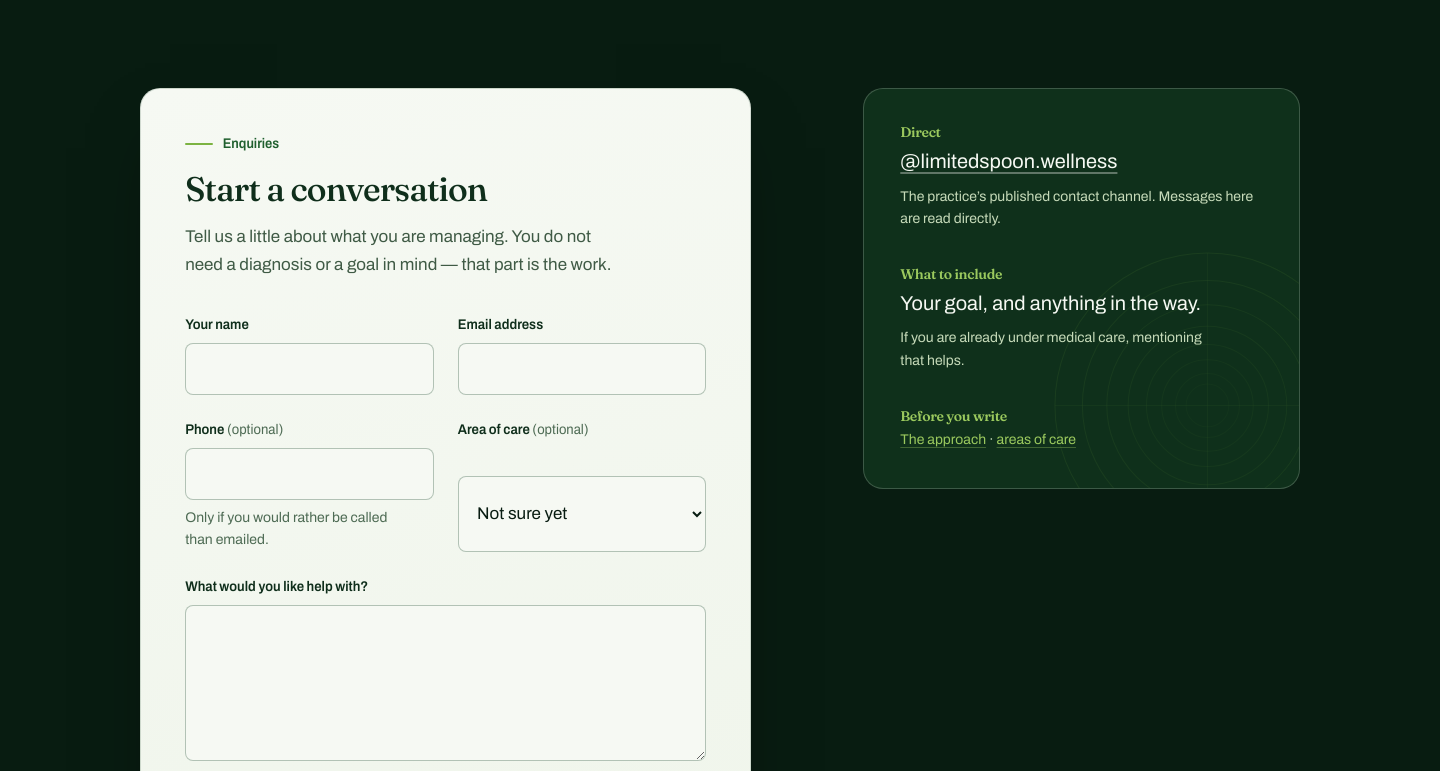
Test: Contact enquiry form › hands the composed enquiry over instead of failing silently
Type "Priya Raman" into the field labelled "Your name". click: {"x": 310, "y": 369}
box: [185,343,434,395]
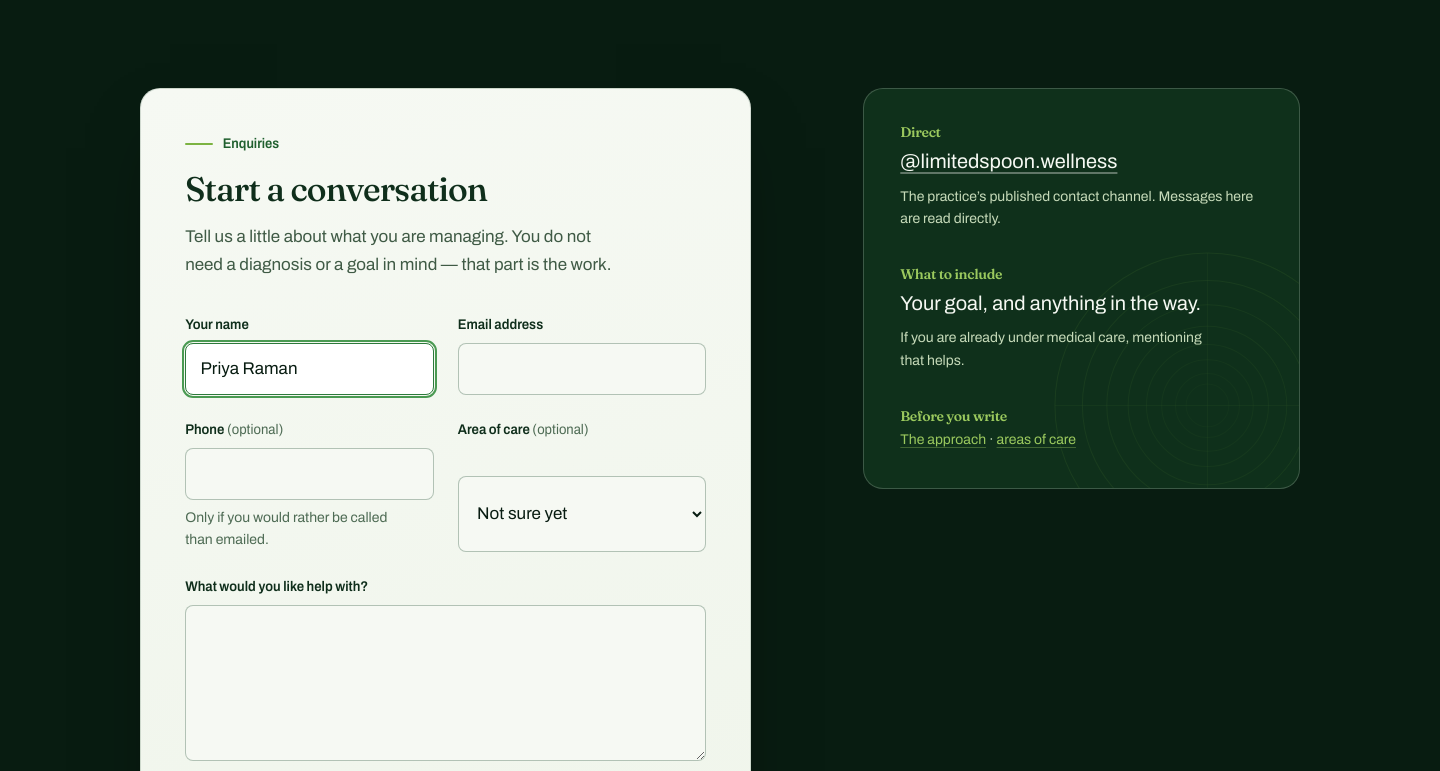
Type "priya@example.com" into the field labelled "Email address". click: {"x": 582, "y": 369}
box: [458,343,706,395]
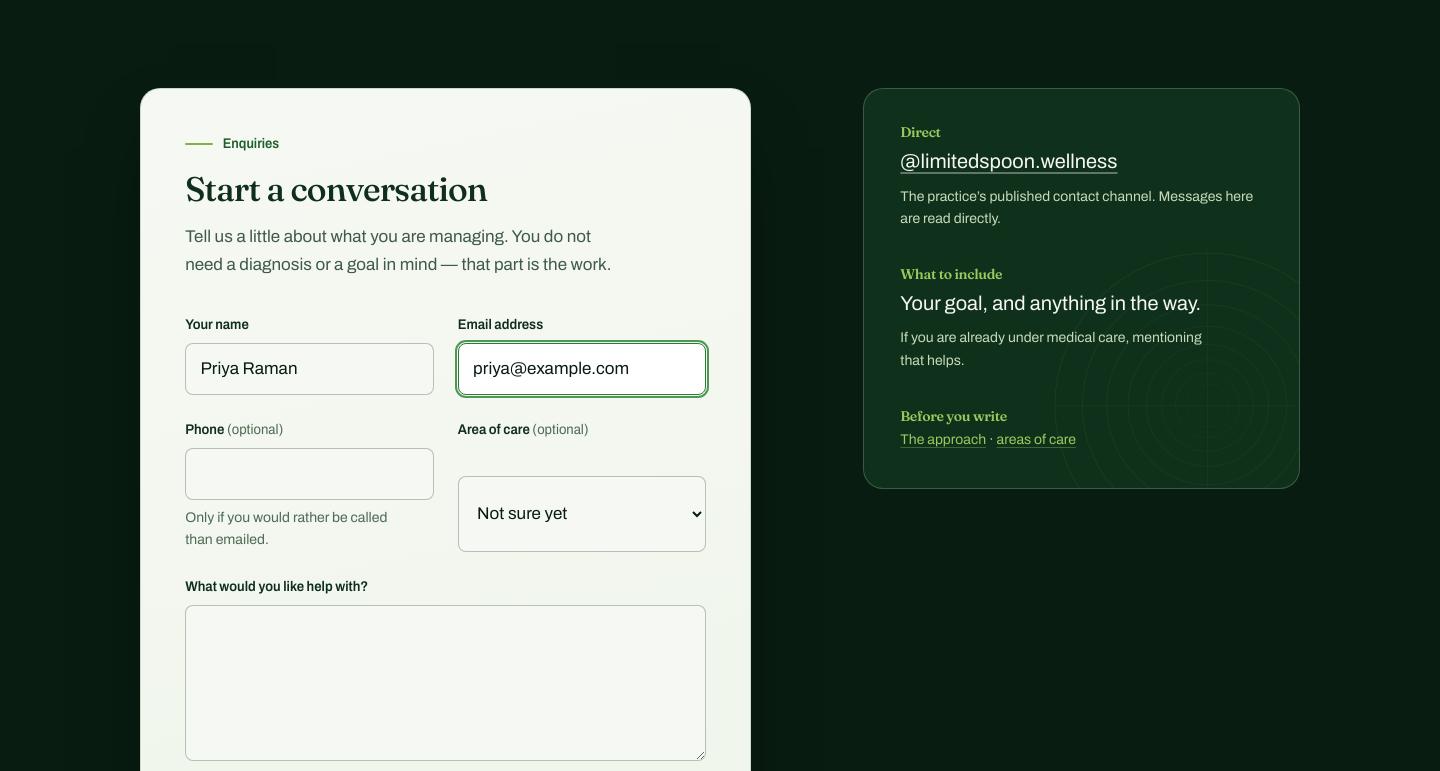
Type "I would like help with a plan for managing PCOS." into the text box labelled "What would you like help with?". click: {"x": 446, "y": 683}
box: [185,605,706,761]
(page scrolled)
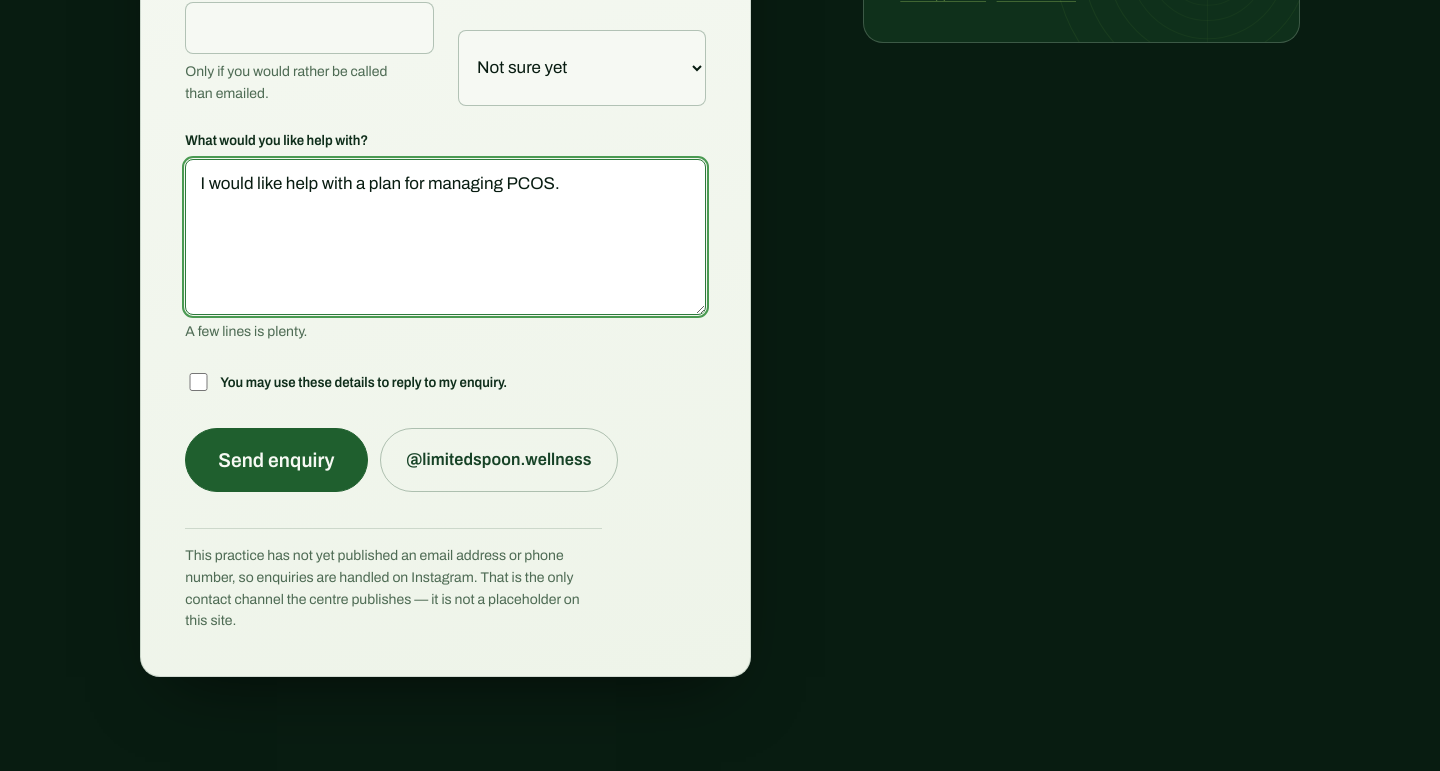
Click the checkbox labelled "You may use these details to reply to my enquiry.". click: {"x": 198, "y": 382}
box: [189,372,208,391]
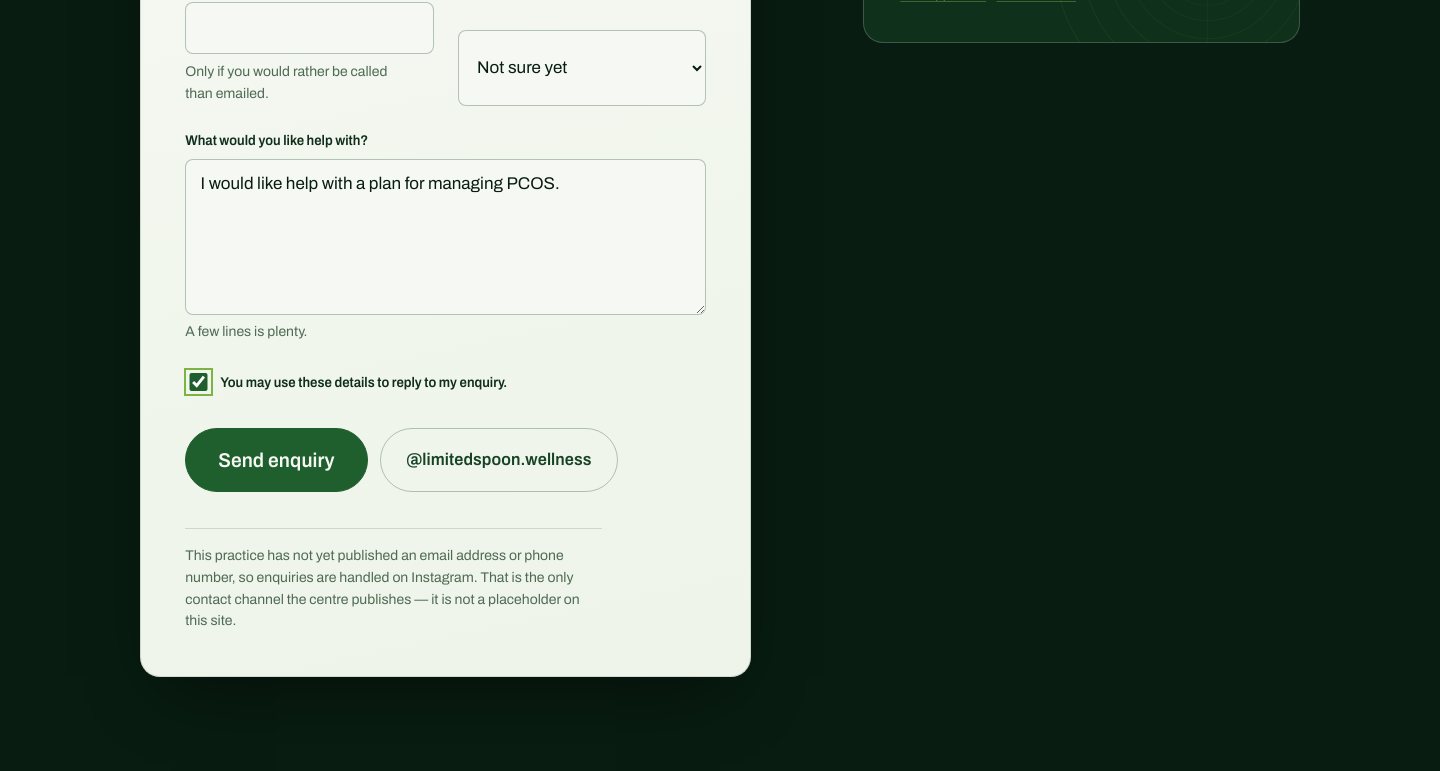
Click the button "Send enquiry". click: {"x": 276, "y": 460}
box: [185,428,368,492]
(page scrolled)
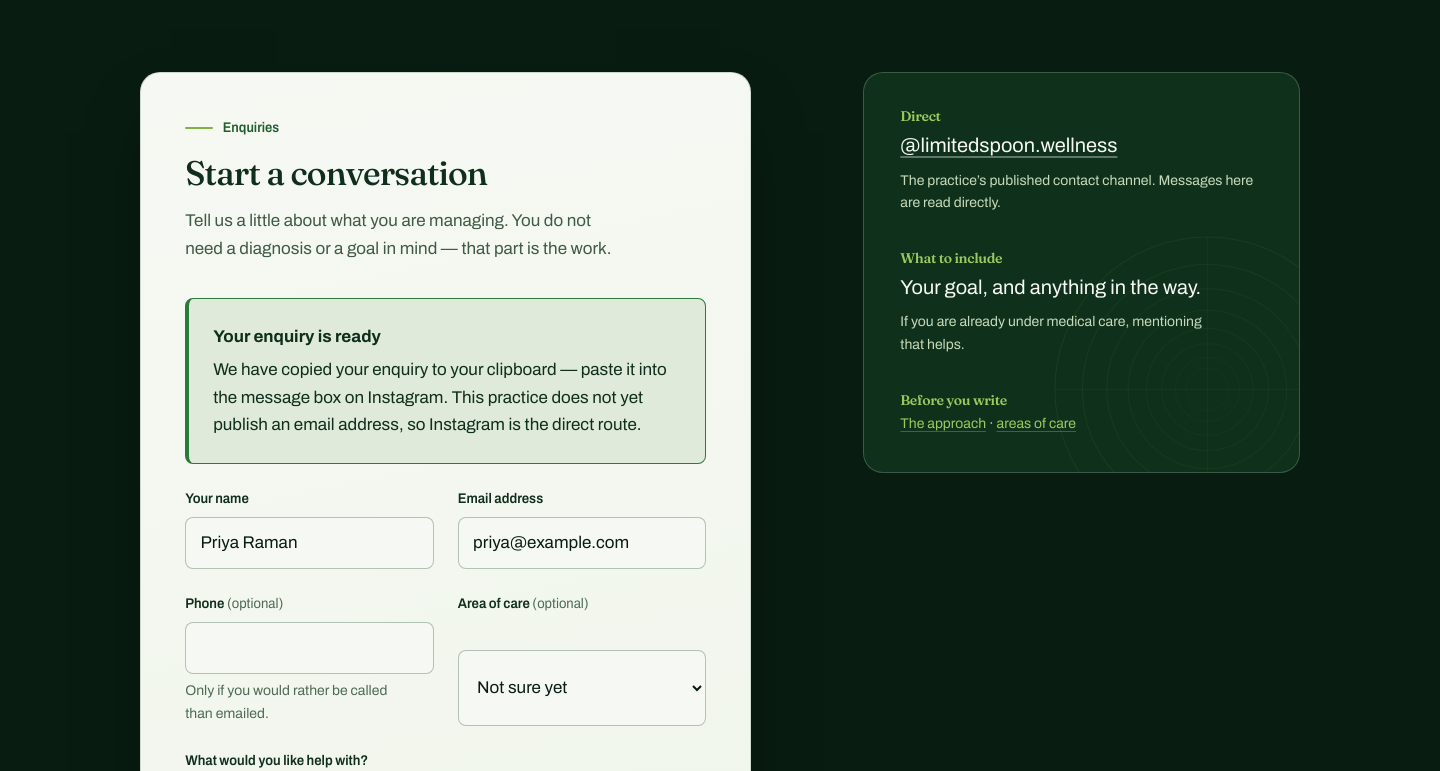
Expected: the message shows "copied your enquiry", [213,360,667,434]
